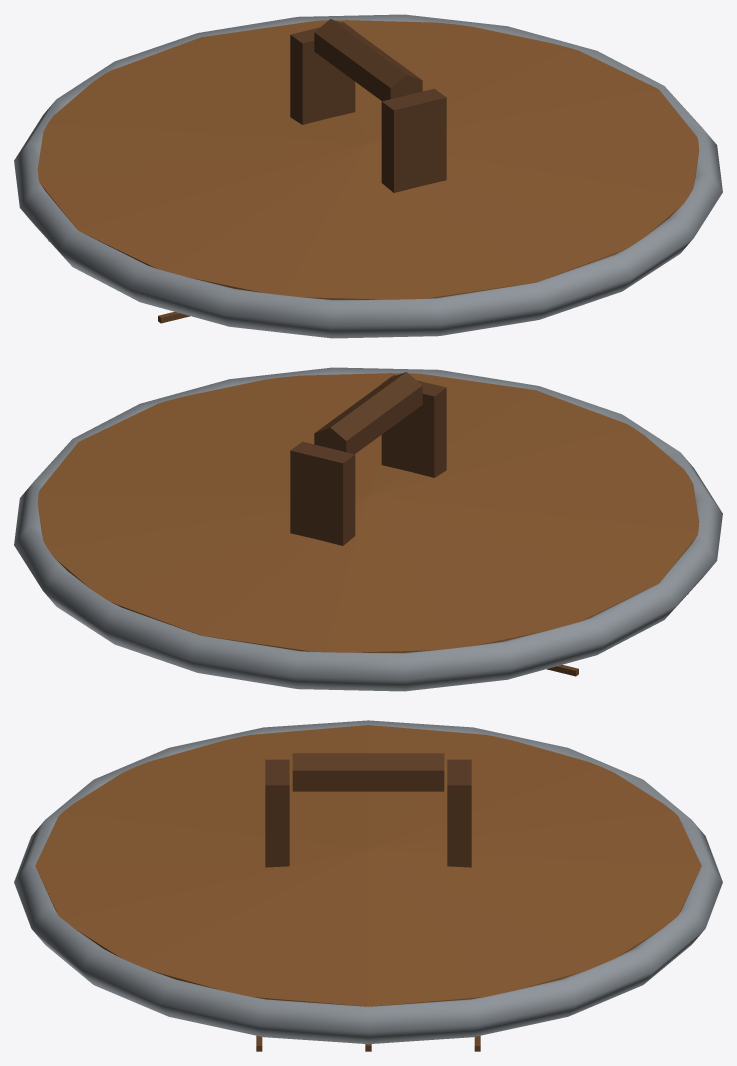
File: Weapon_Shield_Iron.fbx
3 renders of one model, top to bottom at view 1: azimuth 30°, elevation 25°; view 2: azimuth 150°, elevation 25°; view 3: azimuth 270°, elevation 25°, orthographic.
Visible parts, largest first — view 1: Weapon_Shield_Iron; view 2: Weapon_Shield_Iron; view 3: Weapon_Shield_Iron.
Part boxes in pixels (<box>): Weapon_Shield_Iron: <box>14,14,722,338</box>; Weapon_Shield_Iron: <box>14,367,722,691</box>; Weapon_Shield_Iron: <box>14,720,722,1051</box>.
Bounding box in the file's own units: 23.4 × 7.63 × 23.4.
